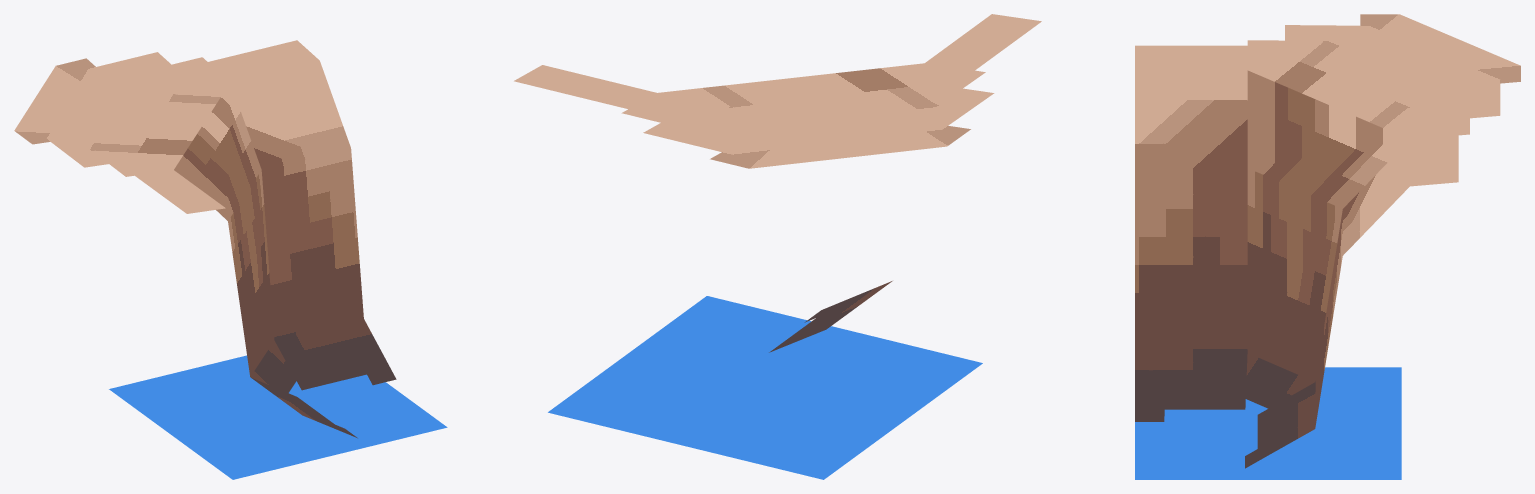
3 views of the same model, side by side, from view 1: azimuth 30°, elevation 25°; view 2: azimuth 150°, elevation 25°; view 3: azimuth 270°, elevation 25° (orthographic). The views are drawn at different scales.
Bounding box in the file's own units: 0.7236 × 0.627 × 0.7236.
Materials: 2 (2 with a texture image).
